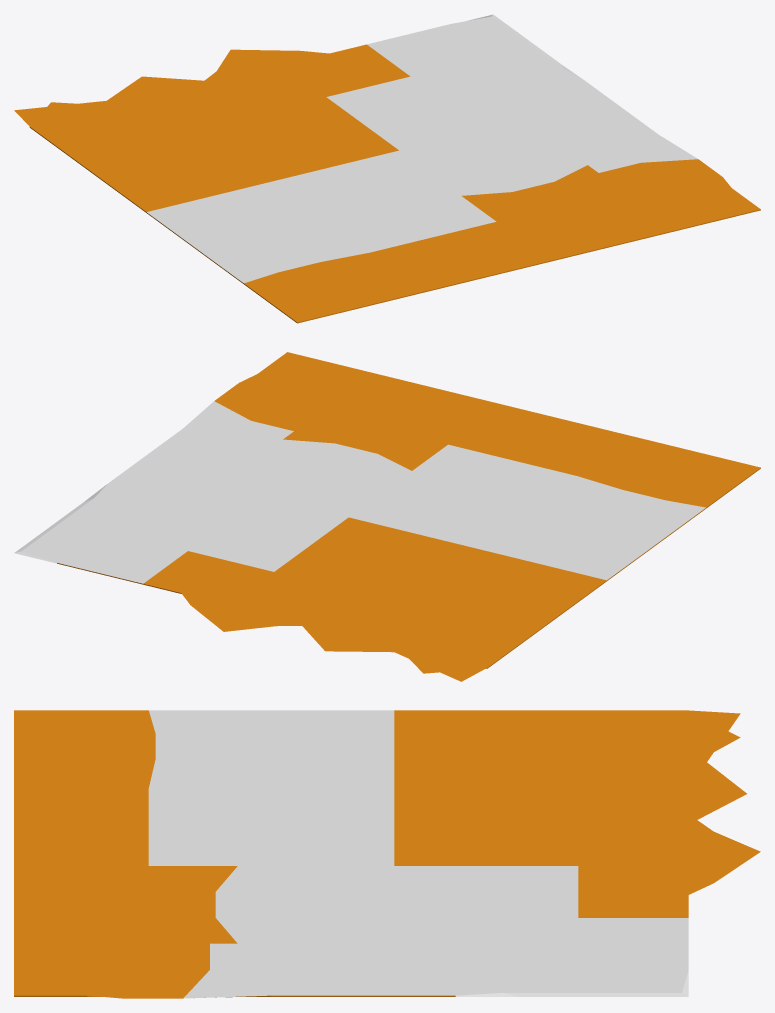
File: ground.fbx
3 renders of one model, top to bottom at view 1: azimuth 30°, elevation 25°; view 2: azimuth 150°, elevation 25°; view 3: azimuth 270°, elevation 25°, orthographic. The views are drawn at different scales.
Visible parts, largest first — view 1: Cube; view 2: Cube; view 3: Cube.
Boxes of the visible parts, bbox=[...] form: Cube: bbox=[14, 14, 760, 323]; Cube: bbox=[14, 352, 760, 681]; Cube: bbox=[14, 710, 760, 998].
Size of the model in its own units: 1010000 by 2000 by 1107073.
